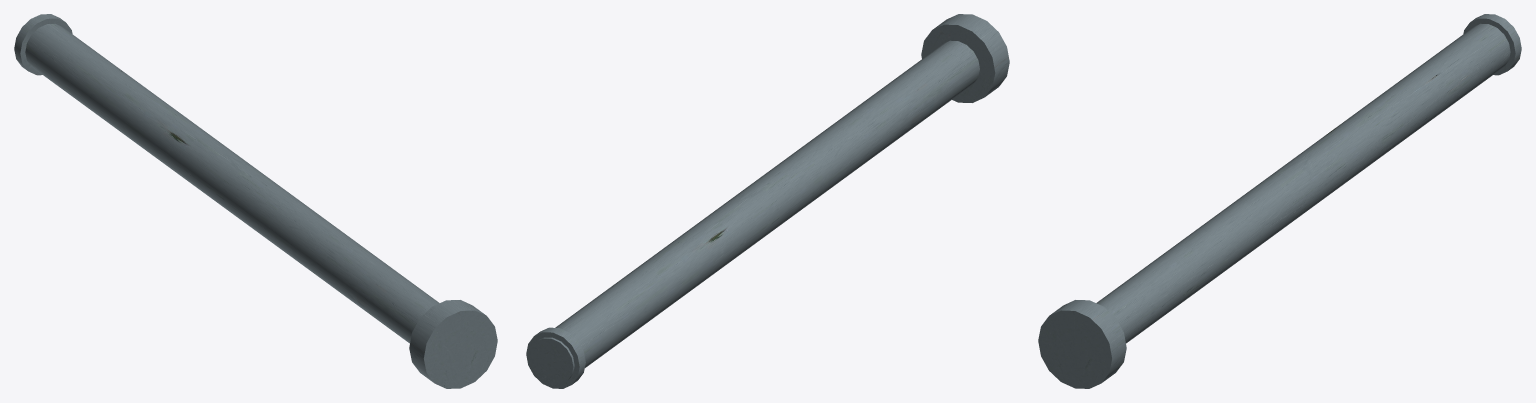
File: BoltLong2.FBX
3 views of the same model, side by side, from view 1: azimuth 30°, elevation 25°; view 2: azimuth 150°, elevation 25°; view 3: azimuth 330°, elevation 25° (orthographic).
Visible parts, largest first — view 1: BoltLong2; view 2: BoltLong2; view 3: BoltLong2.
Boxes of the visible parts, bbox=[...] form: BoltLong2: bbox=[14, 14, 497, 388]; BoltLong2: bbox=[526, 14, 1009, 388]; BoltLong2: bbox=[1038, 14, 1521, 388].
Size of the model in its own units: 2.2 by 21.69 by 2.2.
